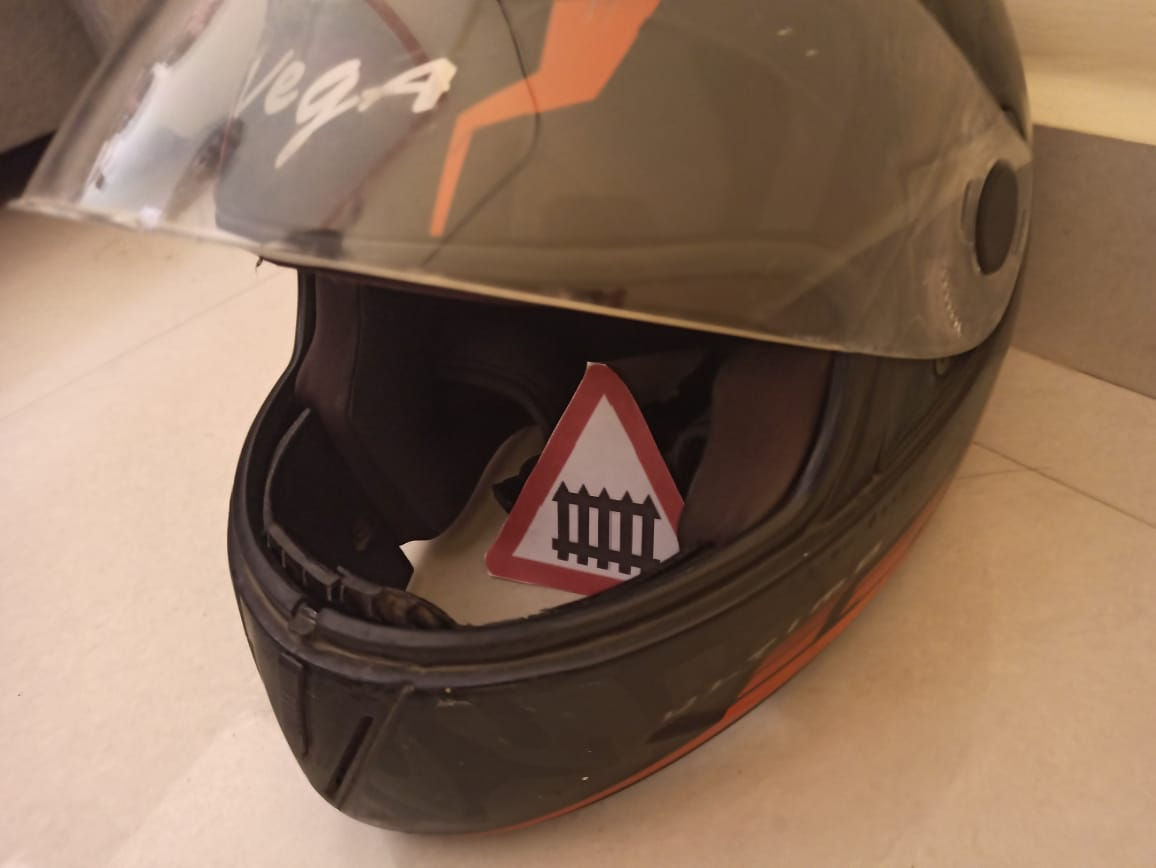GUARDED LEVEL CROSSING: (482, 349, 742, 609)
